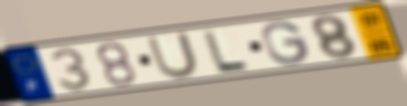3: (45, 46, 94, 92)
8: (310, 13, 359, 62), (95, 41, 137, 87)
G: (260, 20, 312, 67)
L: (200, 29, 252, 73)
U: (144, 31, 202, 81)
